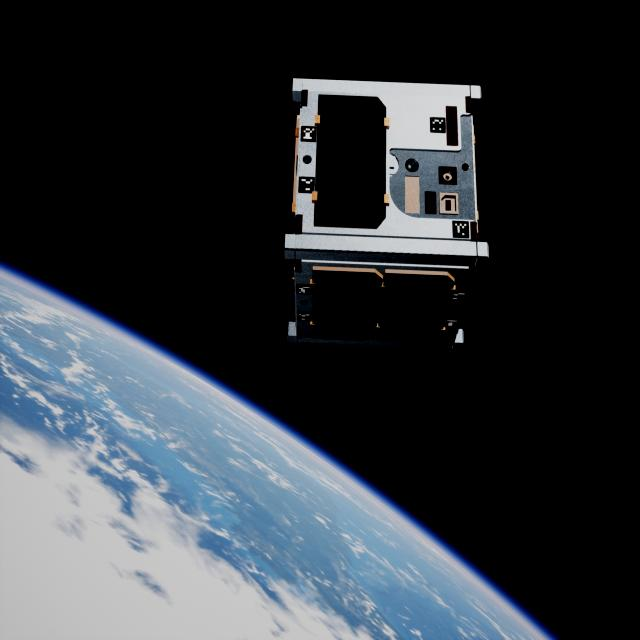medium_debris: (284, 69, 488, 347)
